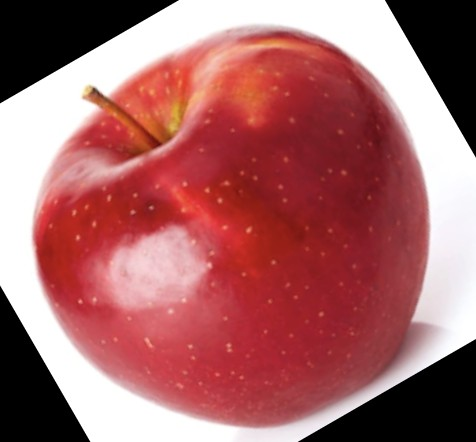fresh_apple: (34, 25, 421, 428)
